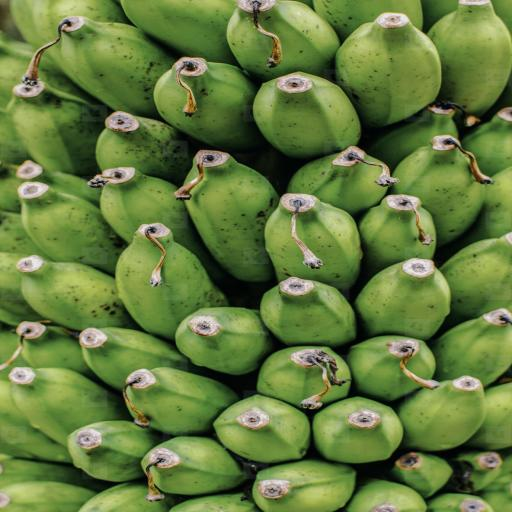banana-unripe: (0, 1, 510, 512)
